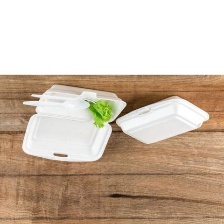foam_box: (17, 80, 131, 166), (114, 93, 213, 146)
